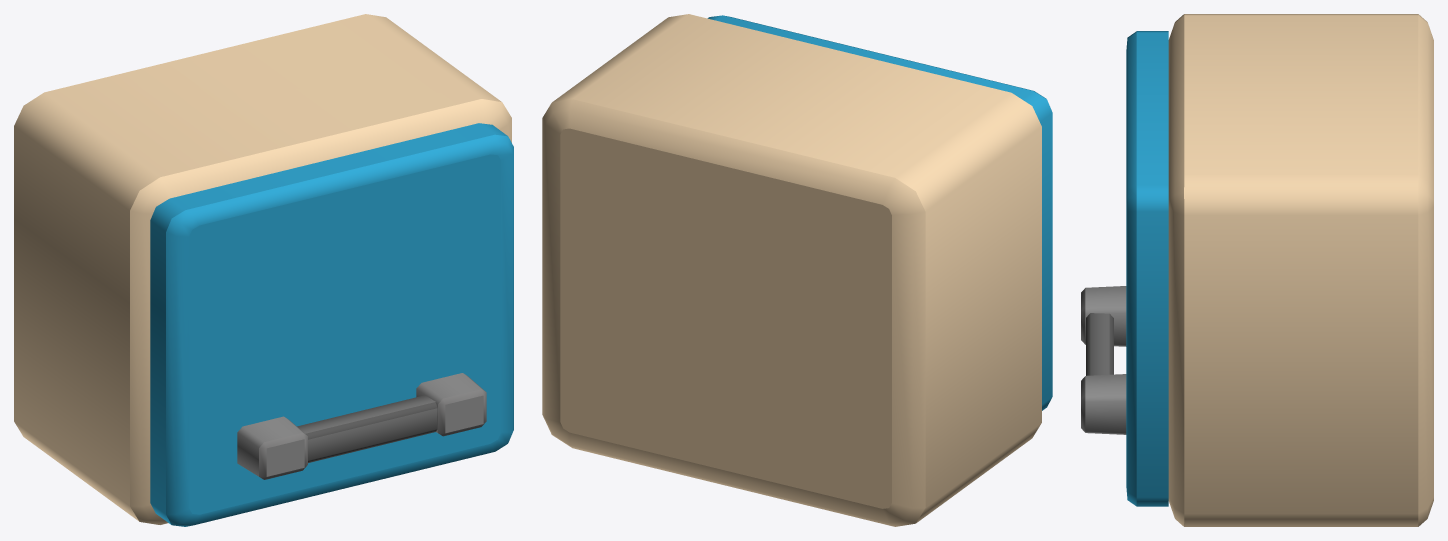
Rendered from Furnit_A_9.glb.
3 renders of one model, left to right at view 1: azimuth 30°, elevation 25°; view 2: azimuth 150°, elevation 25°; view 3: azimuth 270°, elevation 25°, orthographic.
Visible parts, largest first — view 1: Furnit_A_9_S1, Furnit_A_9; view 2: Furnit_A_9, Furnit_A_9_S1; view 3: Furnit_A_9, Furnit_A_9_S1.
Boxes of the visible parts, bbox=[...] form: Furnit_A_9_S1: bbox=[150, 123, 513, 526]; Furnit_A_9: bbox=[14, 14, 511, 524]; Furnit_A_9: bbox=[542, 14, 1041, 526]; Furnit_A_9_S1: bbox=[707, 15, 1052, 410]; Furnit_A_9: bbox=[1168, 14, 1433, 526]; Furnit_A_9_S1: bbox=[1081, 31, 1168, 506].
Size of the model in its own units: 0.6 by 0.5223 by 0.4755.
Materials: 1 (1 with a texture image).
